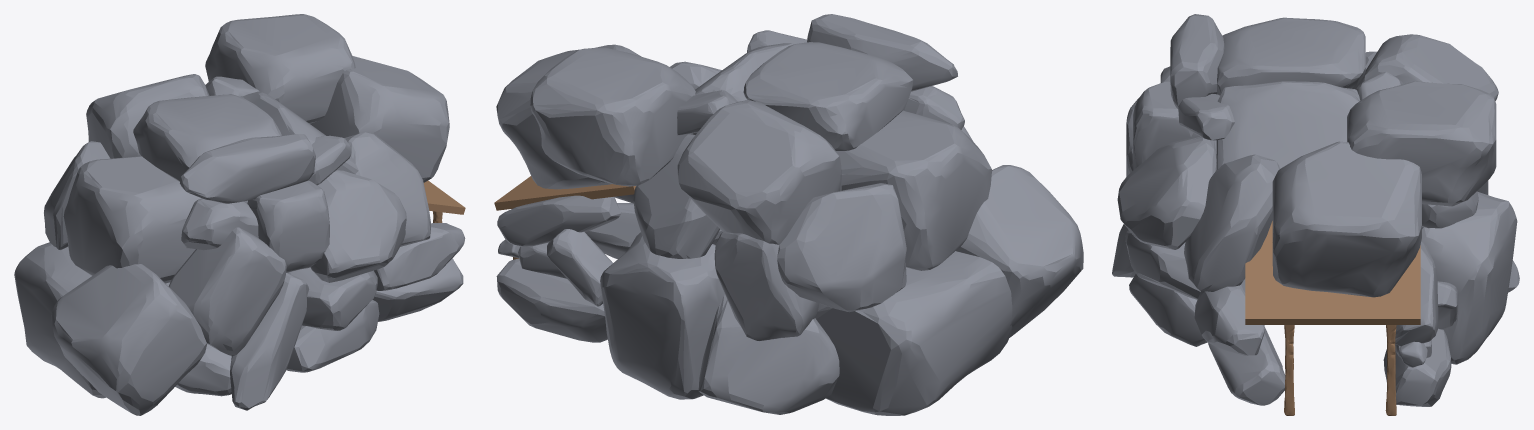
File: Mine.fbx
The picture shows the model from 3 angles, left to right: view 1: azimuth 30°, elevation 25°; view 2: azimuth 150°, elevation 25°; view 3: azimuth 270°, elevation 25°; orthographic projection. The views are drawn at different scales.
Visible parts, largest first — view 1: Rock_space.025, Cube; view 2: Rock_space.025, Cube; view 3: Rock_space.025, Cube, Wood.003, Wood.001.
Boxes of the visible parts, bbox=[...] form: Rock_space.025: bbox=[14, 14, 465, 415]; Cube: bbox=[423, 180, 465, 214]; Rock_space.025: bbox=[496, 14, 1083, 415]; Cube: bbox=[494, 176, 635, 210]; Rock_space.025: bbox=[1112, 14, 1519, 406]; Cube: bbox=[1245, 221, 1420, 324]; Wood.003: bbox=[1385, 325, 1396, 415]; Wood.001: bbox=[1284, 325, 1294, 415].
Bounding box in the file's own units: 1966 × 1095 × 1451.
